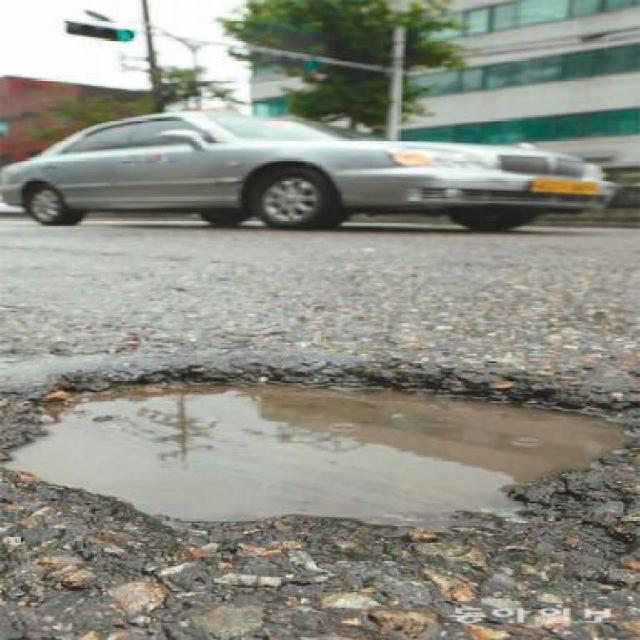Buraco: (0, 359, 640, 539)
